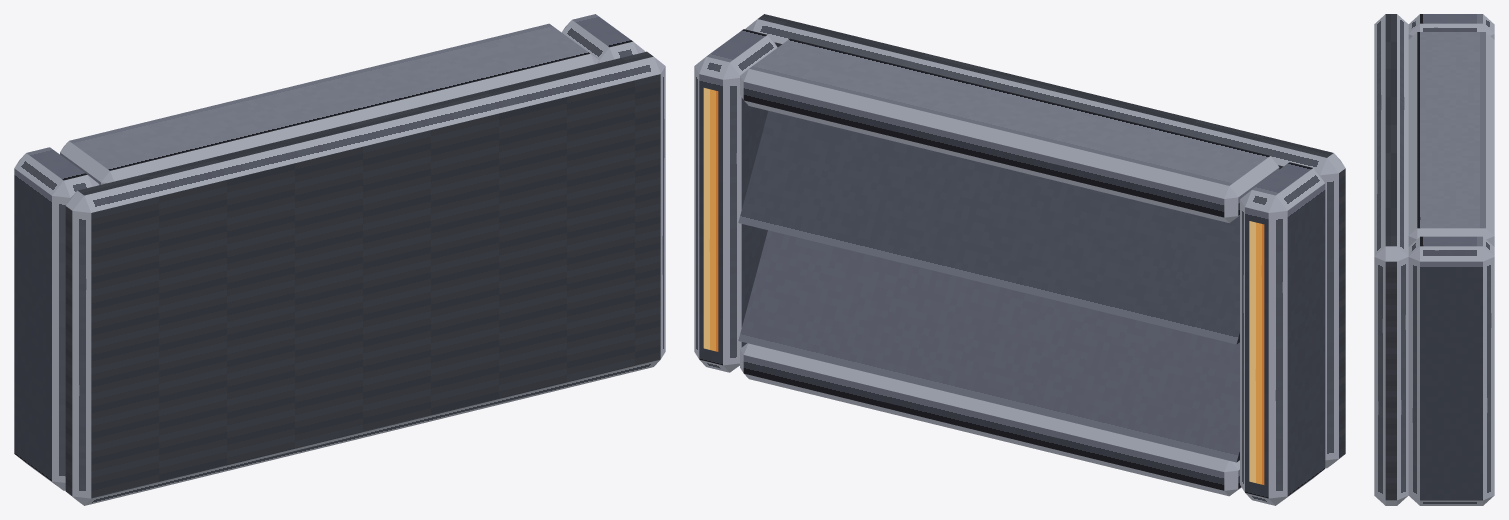
File: marlit_armor2.glb
3 views of the same model, side by side, from view 1: azimuth 30°, elevation 25°; view 2: azimuth 150°, elevation 25°; view 3: azimuth 270°, elevation 25° (orthographic). The views are drawn at different scales.
Visible parts, largest first — view 1: marlit_armor2_body; view 2: marlit_armor2_body; view 3: marlit_armor2_body.
Part boxes in pixels (x1,y1,x2,y2): marlit_armor2_body: (14, 14, 665, 505); marlit_armor2_body: (694, 14, 1345, 505); marlit_armor2_body: (1374, 14, 1494, 505).
Size of the model in its own units: 2 by 1 by 0.421.
Materials: 1 (1 with a texture image).
